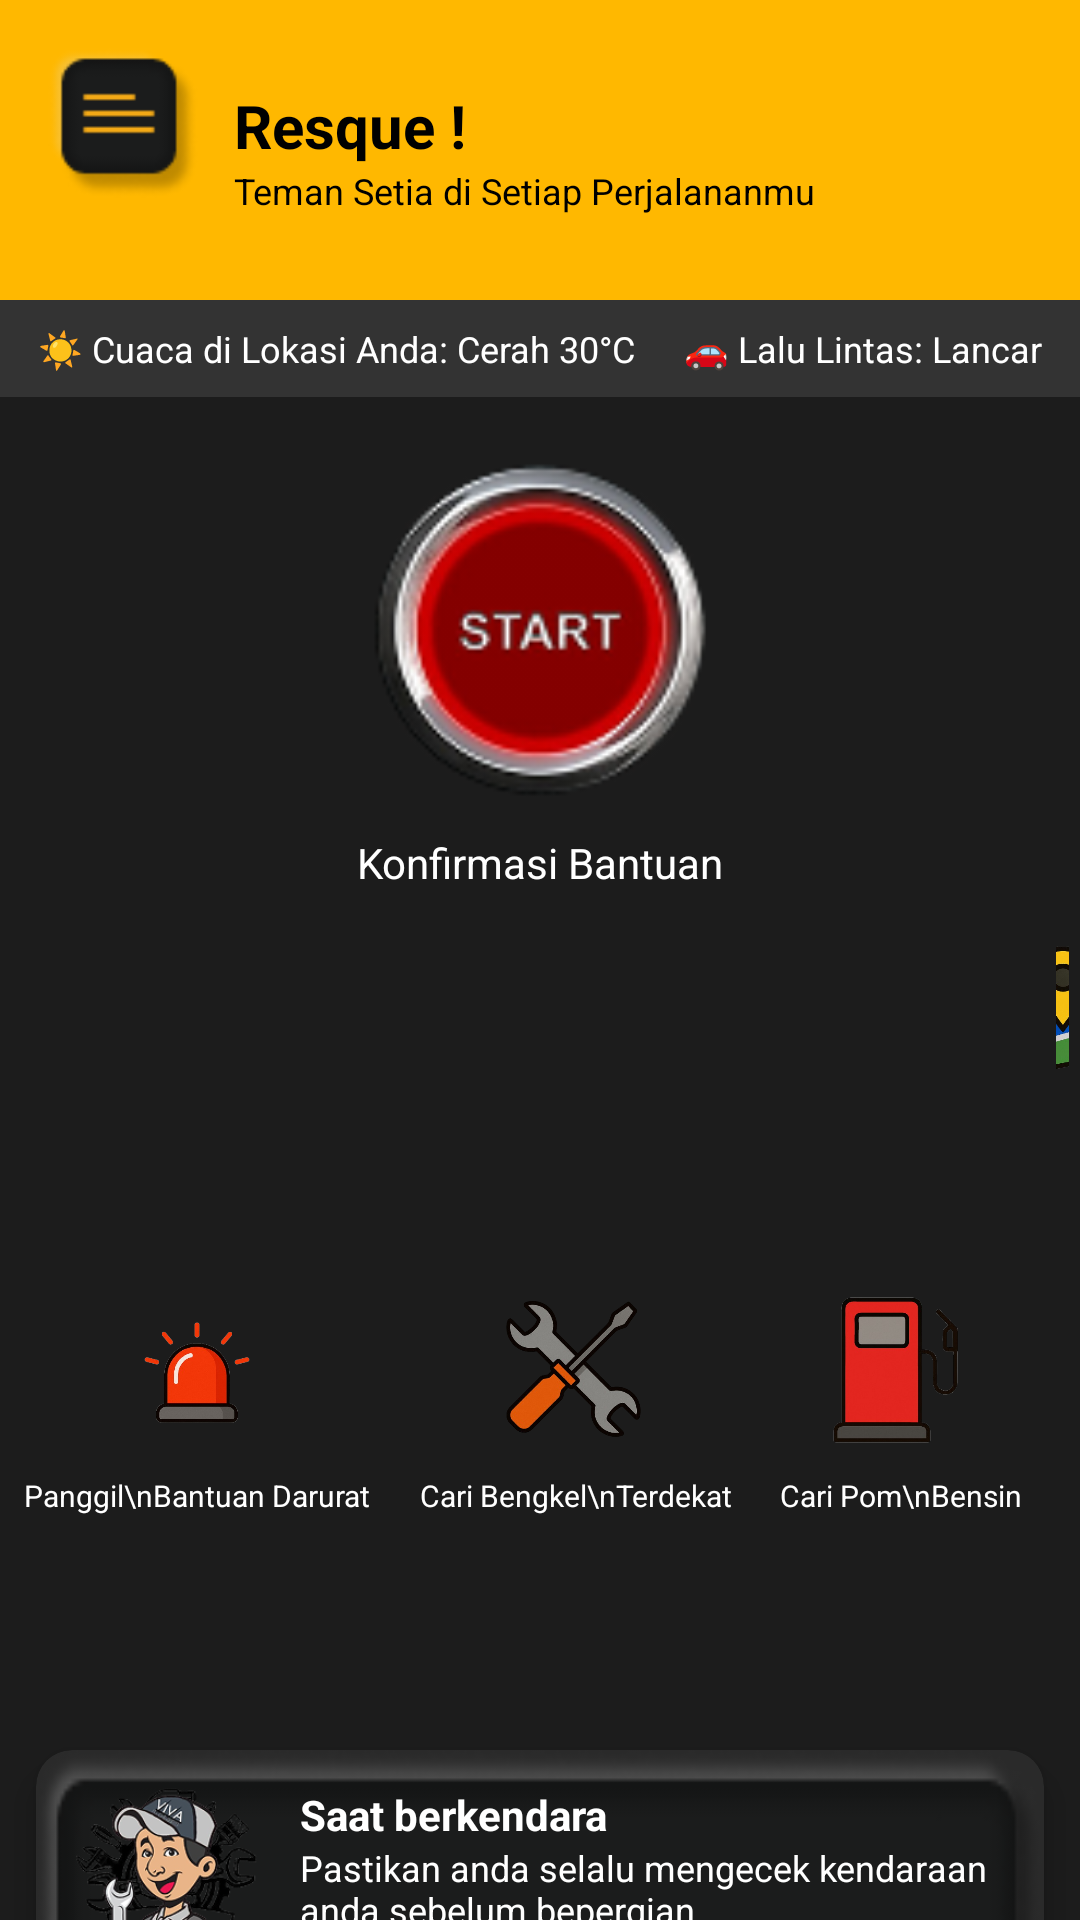

Where to tap for icons on this 1080*1920 app screen, as (x=x, y=y):
daruratt: (x=197, y=1372)
humberger: (x=122, y=122)
kunci bengkel: (x=573, y=1369)
